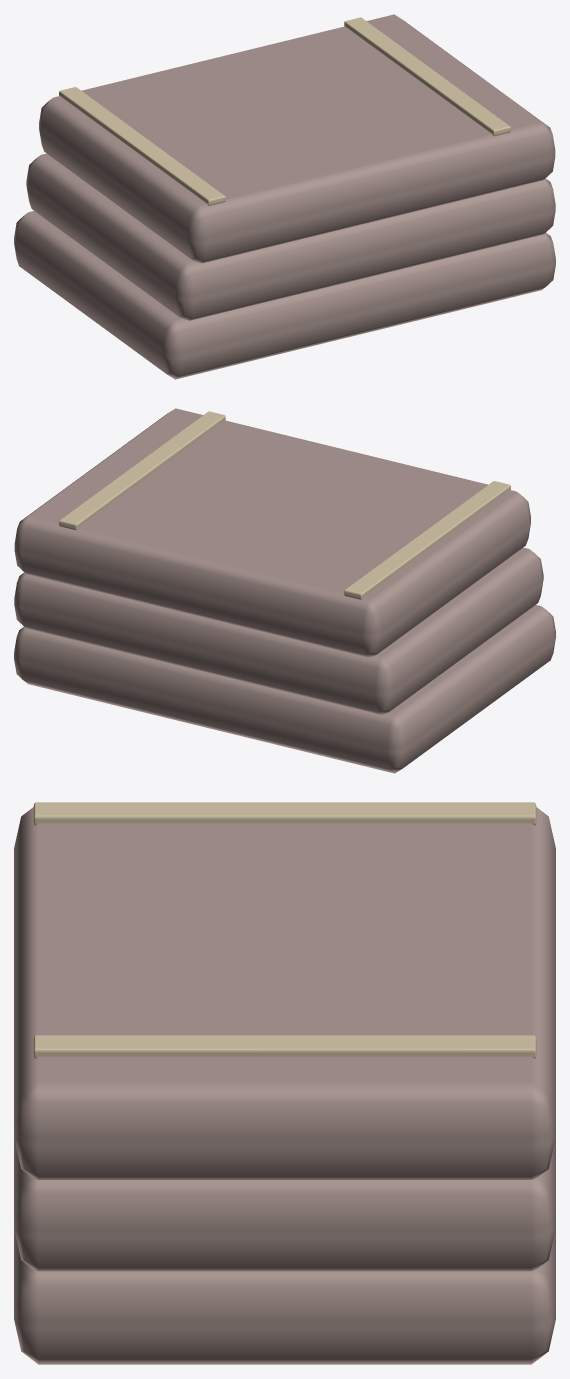
The model's file is foldedblanket.glb.
3 views of the same model, one above another, from view 1: azimuth 30°, elevation 25°; view 2: azimuth 150°, elevation 25°; view 3: azimuth 270°, elevation 25° (orthographic). The views are drawn at different scales.
Parts seen in each view (by area): view 1: folded-cloth-layer-2, folded-cloth-layer-0, folded-cloth-layer-1, woven-band-0-28, woven-band--0-28; view 2: folded-cloth-layer-2, folded-cloth-layer-0, folded-cloth-layer-1, woven-band-0-28, woven-band--0-28; view 3: folded-cloth-layer-2, folded-cloth-layer-0, folded-cloth-layer-1, woven-band--0-28, woven-band-0-28.
Part boxes in pixels (x1=…): folded-cloth-layer-2: x1=39, y1=14, x2=555, y2=263; folded-cloth-layer-0: x1=14, y1=211, x2=555, y2=379; folded-cloth-layer-1: x1=26, y1=153, x2=555, y2=320; woven-band-0-28: x1=344, y1=17, x2=510, y2=136; woven-band--0-28: x1=59, y1=87, x2=225, y2=205; folded-cloth-layer-2: x1=14, y1=408, x2=530, y2=657; folded-cloth-layer-0: x1=14, y1=605, x2=555, y2=773; folded-cloth-layer-1: x1=14, y1=547, x2=543, y2=714; woven-band-0-28: x1=59, y1=411, x2=225, y2=530; woven-band--0-28: x1=344, y1=481, x2=510, y2=599; folded-cloth-layer-2: x1=14, y1=807, x2=555, y2=1179; folded-cloth-layer-0: x1=14, y1=1229, x2=555, y2=1364; folded-cloth-layer-1: x1=14, y1=1137, x2=555, y2=1271; woven-band--0-28: x1=33, y1=802, x2=536, y2=825; woven-band-0-28: x1=33, y1=1035, x2=536, y2=1058.
Bounding box in the file's own units: 0.77 × 0.3241 × 0.55.
